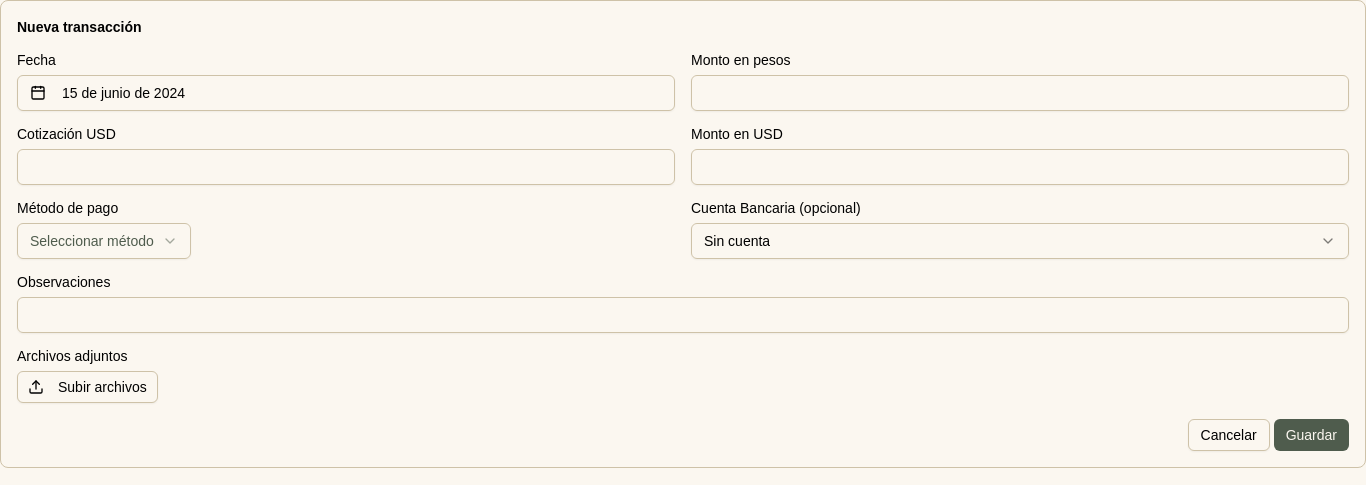
Test: AddTransactionSection › bank account selection › renders bank account options from the realtime hook data
The width and height of the screenshot is (1366, 485).
What coordinates should you click on to do the following:
click the dropdown "Sin cuenta"
I would click on:
 (737, 241)
Its box is [691, 223, 1349, 259].
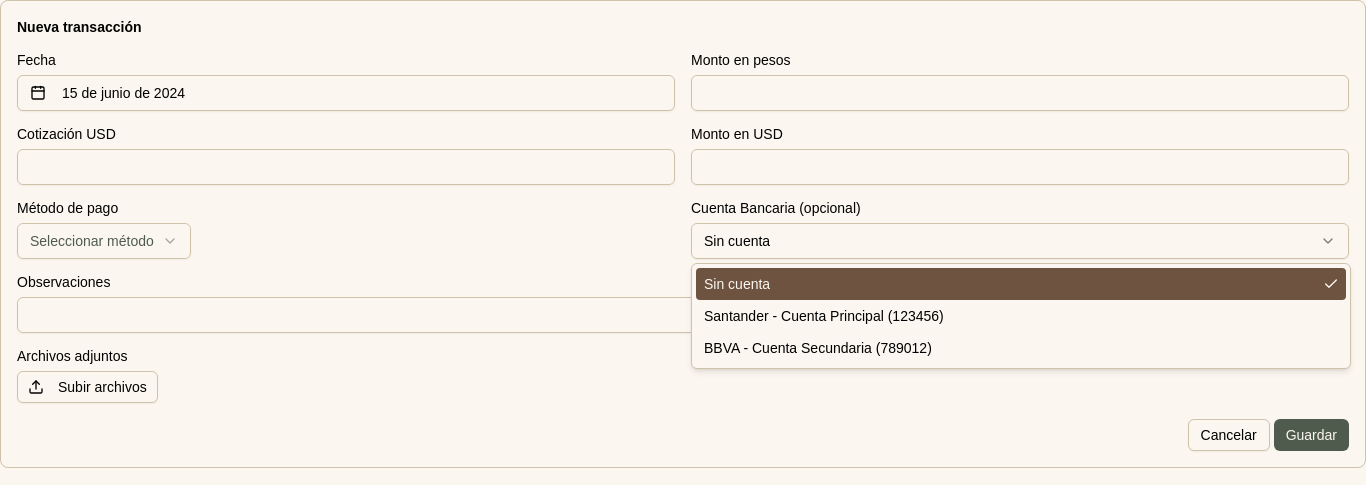
Expected: the text "Santander - Cuenta Principal (123456)" is shown, [704, 306, 944, 326]
Expected: the text "BBVA - Cuenta Secundaria (789012)" is shown, [704, 338, 932, 358]
